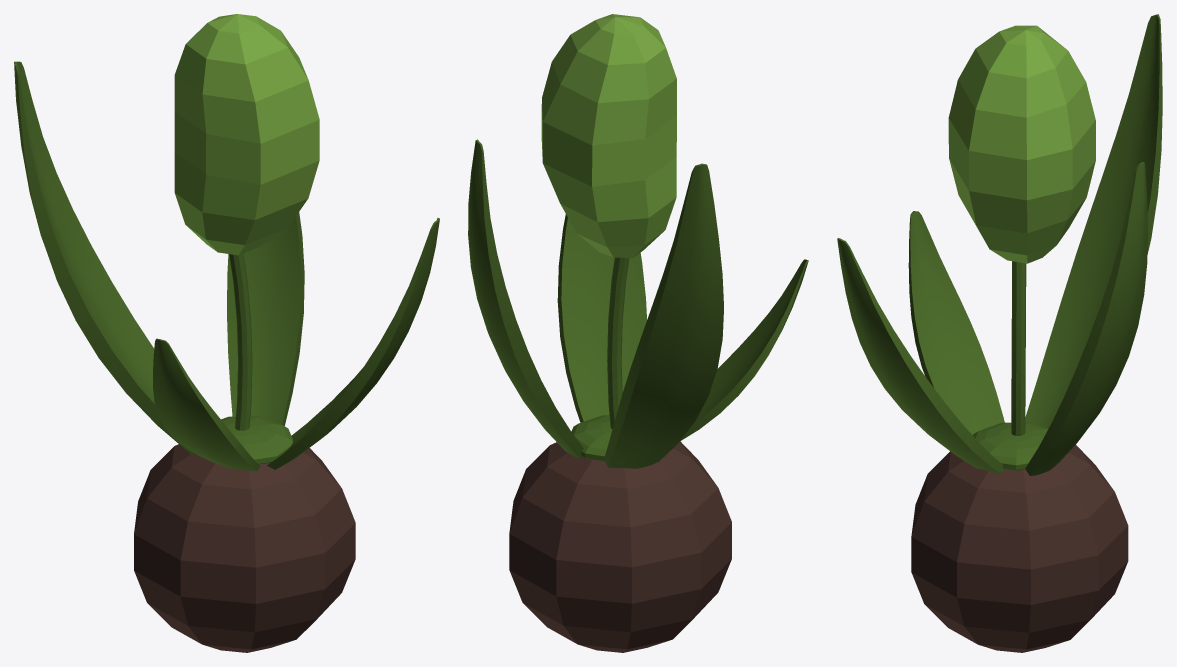
File: RicePhase2.fbx
3 views of the same model, side by side, from view 1: azimuth 30°, elevation 25°; view 2: azimuth 150°, elevation 25°; view 3: azimuth 270°, elevation 25° (orthographic). The views are drawn at different scales.
Visible parts, largest first — view 1: RiceP2Base, RiceP2Rice, RiceP2Leaf2, RiceP2Leaf4, RiceP2Leaf3, RiceP2Leaf5, RiceP2Stem3, RiceP2Stem4; view 2: RiceP2Base, RiceP2Rice, RiceP2Leaf2, RiceP2Leaf5, RiceP2Leaf4, RiceP2Leaf3, RiceP2Stem3, RiceP2Stem4; view 3: RiceP2Base, RiceP2Rice, RiceP2Leaf2, RiceP2Leaf4, RiceP2Leaf3, RiceP2Leaf5, RiceP2Stem3, RiceP2Stem4.
Boxes of the visible parts, x1,y1,x2,y2 form: RiceP2Base: [134, 444, 355, 652]; RiceP2Rice: [174, 14, 319, 255]; RiceP2Leaf2: [14, 61, 194, 455]; RiceP2Leaf4: [227, 212, 304, 425]; RiceP2Leaf3: [153, 338, 260, 471]; RiceP2Leaf5: [267, 218, 439, 469]; RiceP2Stem3: [229, 253, 252, 430]; RiceP2Stem4: [221, 416, 292, 464]; RiceP2Base: [509, 441, 731, 652]; RiceP2Rice: [541, 14, 676, 258]; RiceP2Leaf2: [605, 163, 723, 468]; RiceP2Leaf5: [557, 214, 646, 422]; RiceP2Leaf4: [468, 139, 583, 458]; RiceP2Leaf3: [680, 259, 808, 441]; RiceP2Stem3: [607, 257, 629, 428]; RiceP2Stem4: [571, 415, 612, 461]; RiceP2Base: [911, 445, 1128, 652]; RiceP2Rice: [948, 25, 1095, 263]; RiceP2Leaf2: [1025, 14, 1162, 428]; RiceP2Leaf4: [1025, 162, 1147, 475]; RiceP2Leaf3: [908, 211, 1004, 434]; RiceP2Leaf5: [837, 238, 1004, 473]; RiceP2Stem3: [1011, 261, 1026, 435]; RiceP2Stem4: [972, 422, 1048, 470].
Bounding box in the file's own units: 1.81 × 3.97 × 1.91.
